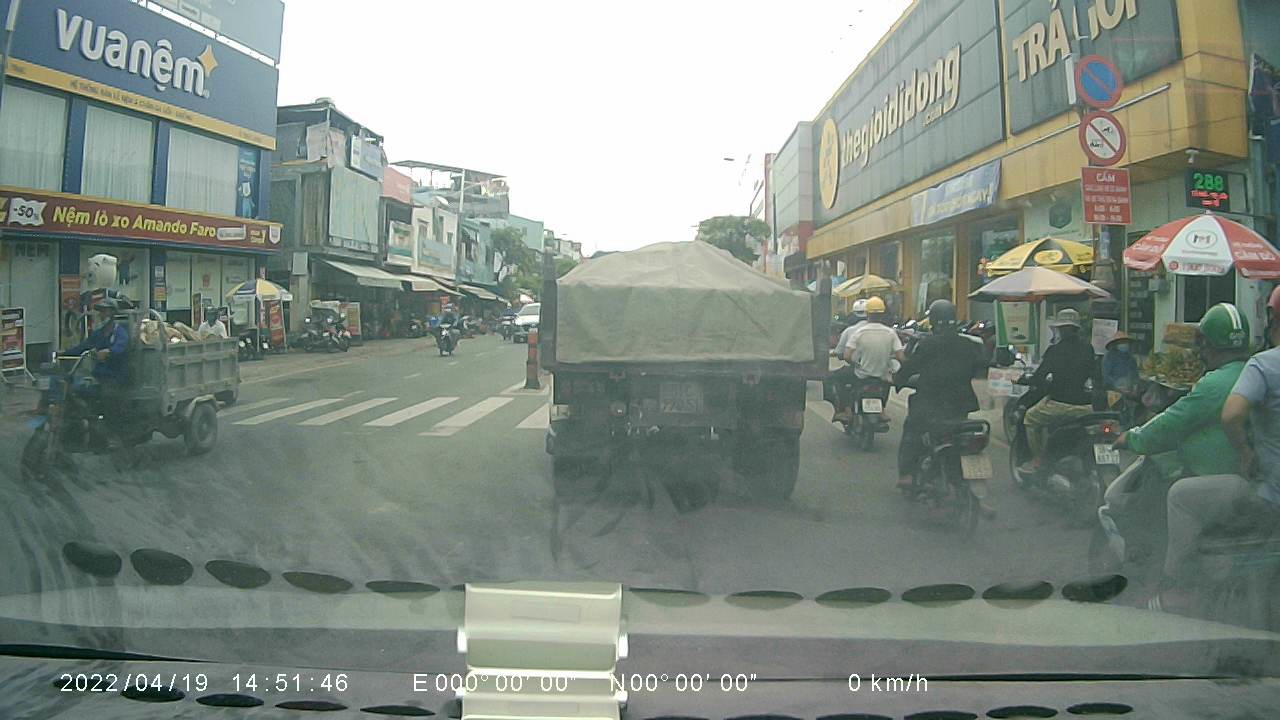Bien khac: (1075, 109, 1131, 167)
Cam do xe: (1074, 54, 1127, 110)
